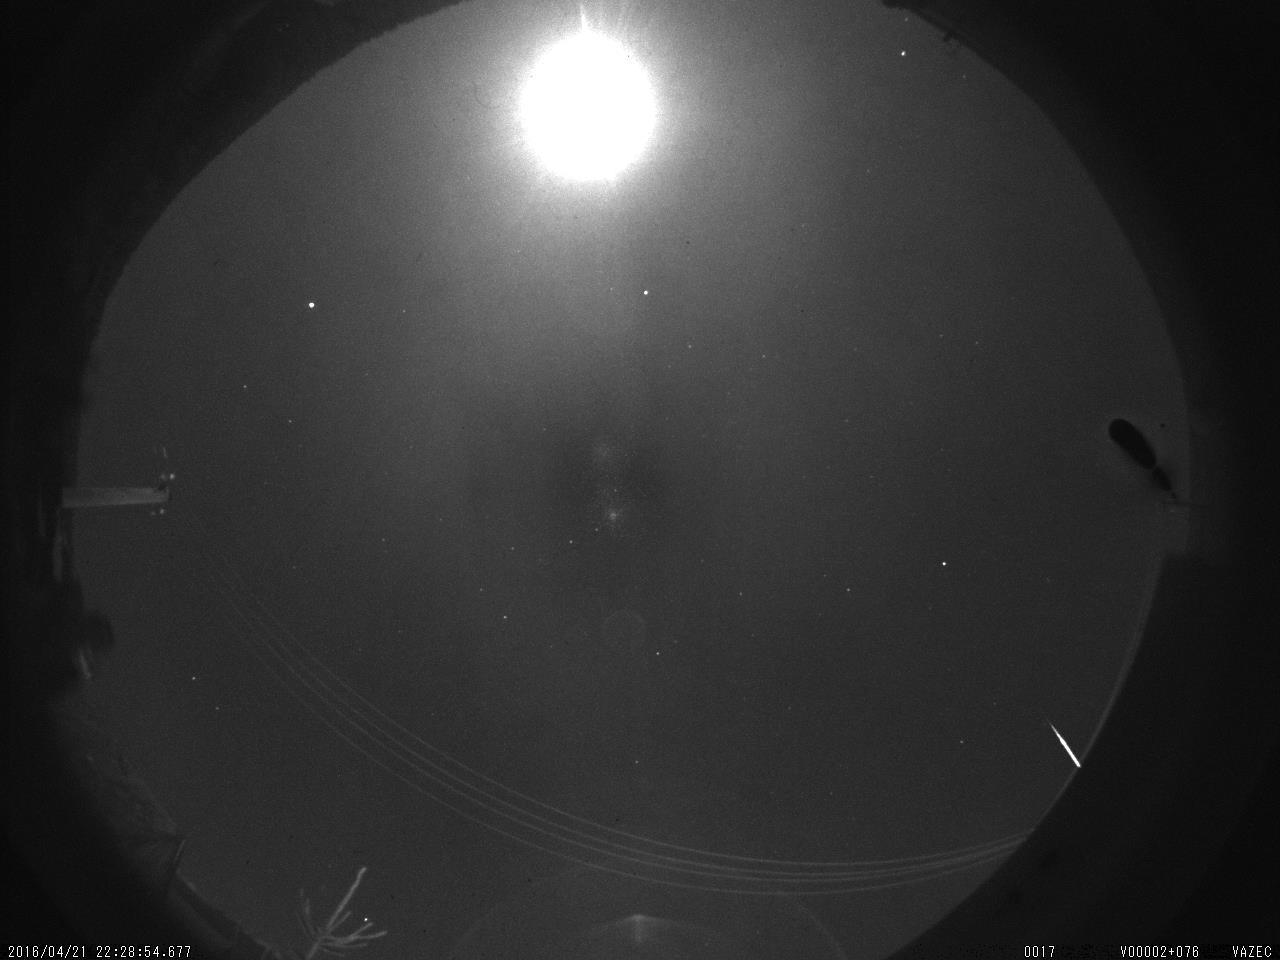Meteor: (1042, 710, 1090, 777)
